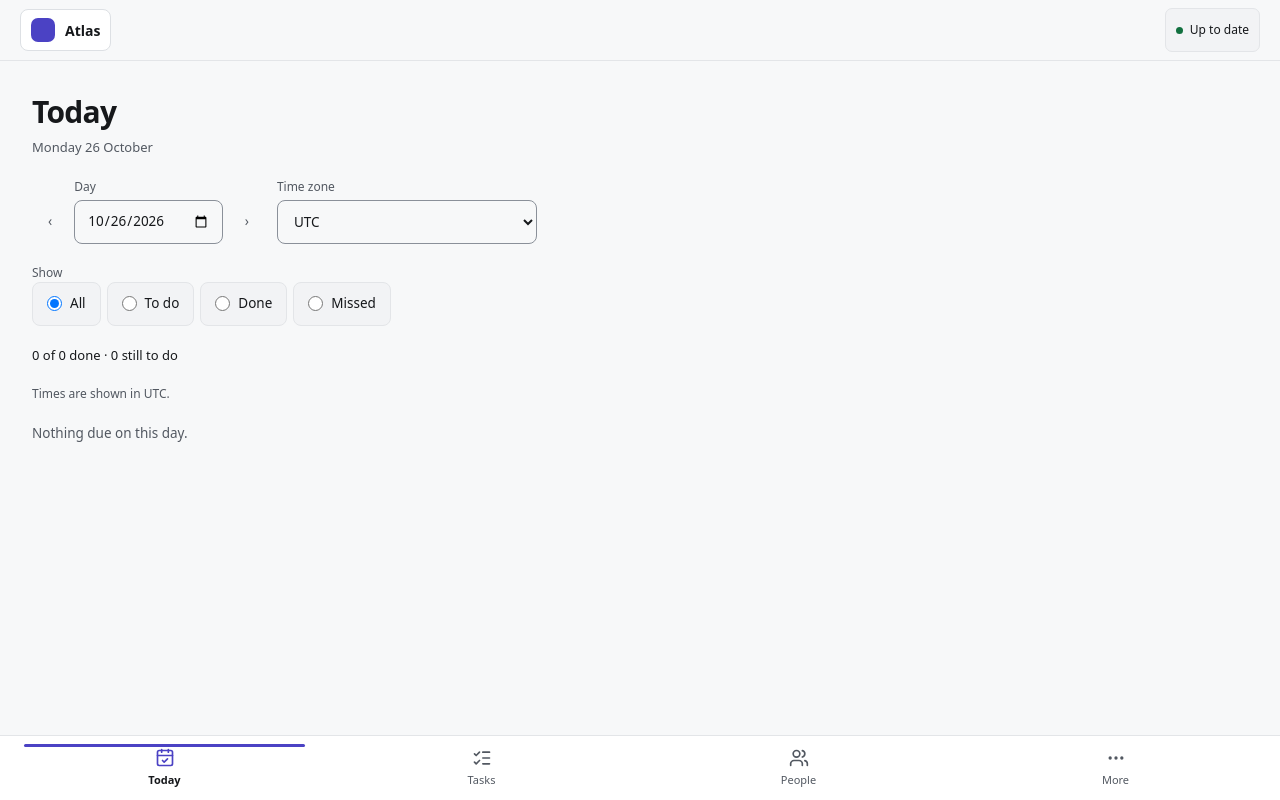
Test: R10: the mobile account entry (More → account control) › the picker's Close returns focus to More
This screenshot has width=1280, height=800.
expect the element that starts with "Today" is shown: met, box [32,91,537,442]
Click the button "More": (1116, 768) [959,744,1272,792]
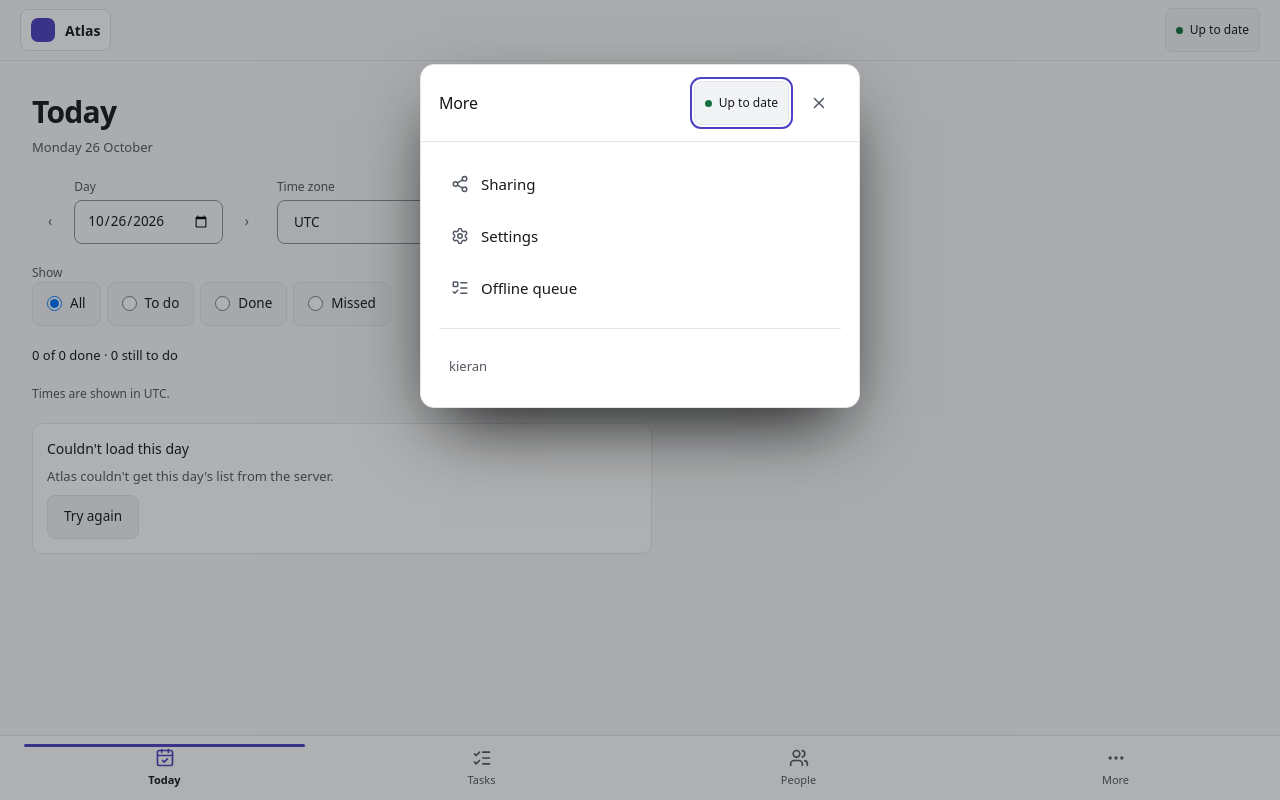
Click the button with aria-label "kieran, switch account": (468, 366) [439,345,841,389]
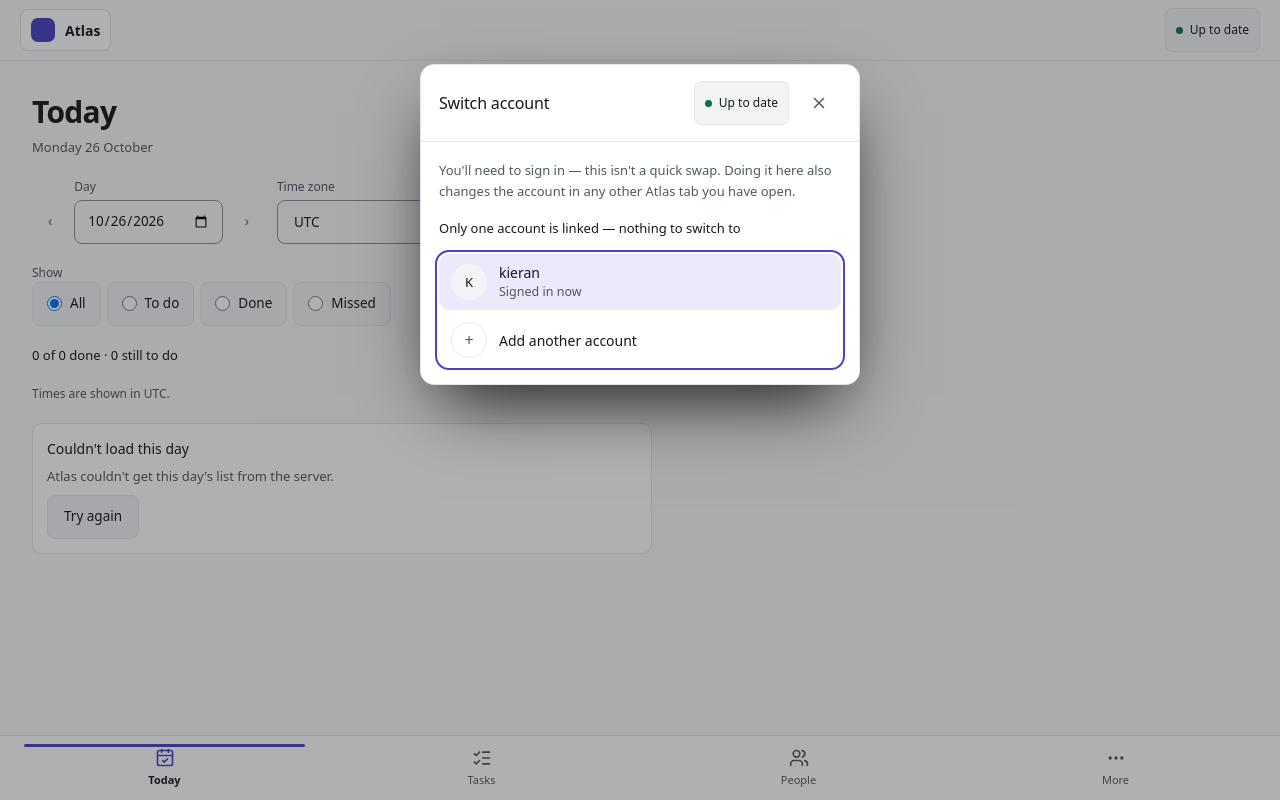
Click the button named "Close": (819, 103) [797,81,841,125]
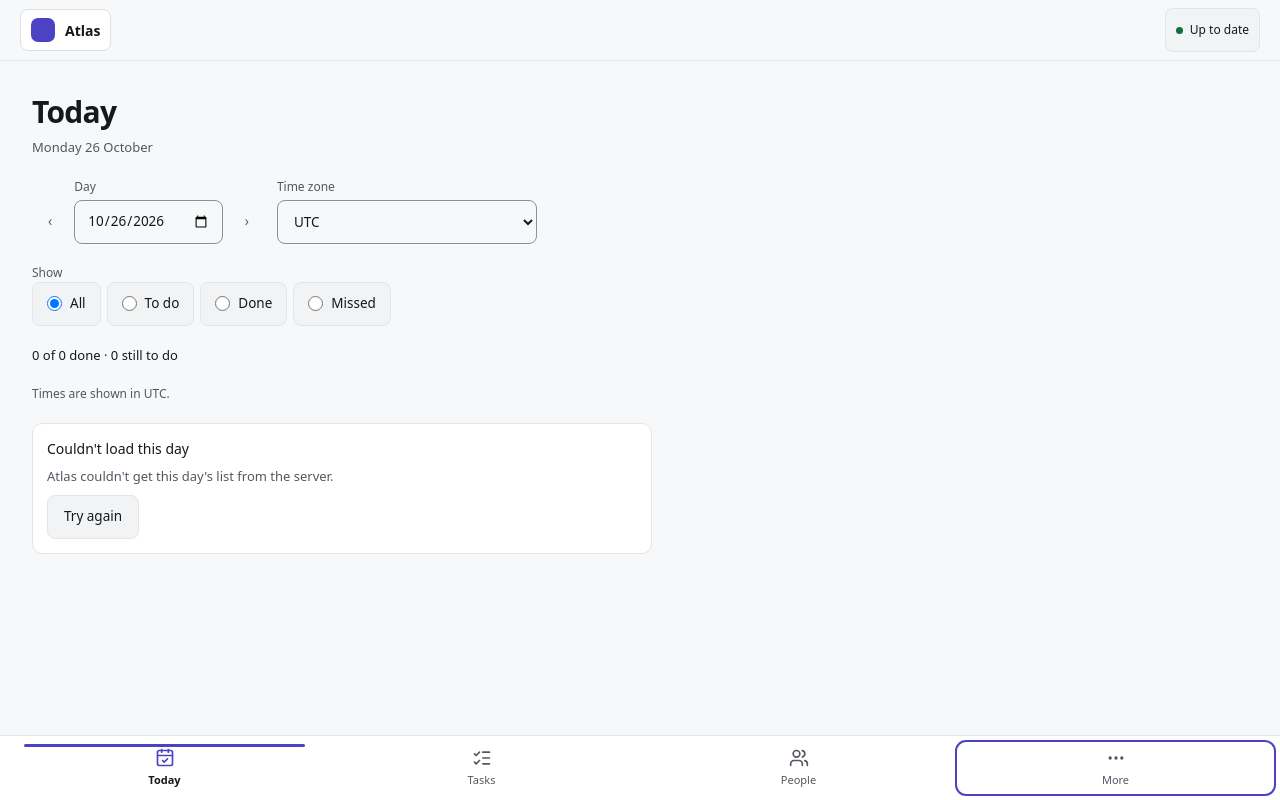
expect the dialog is gone: met
